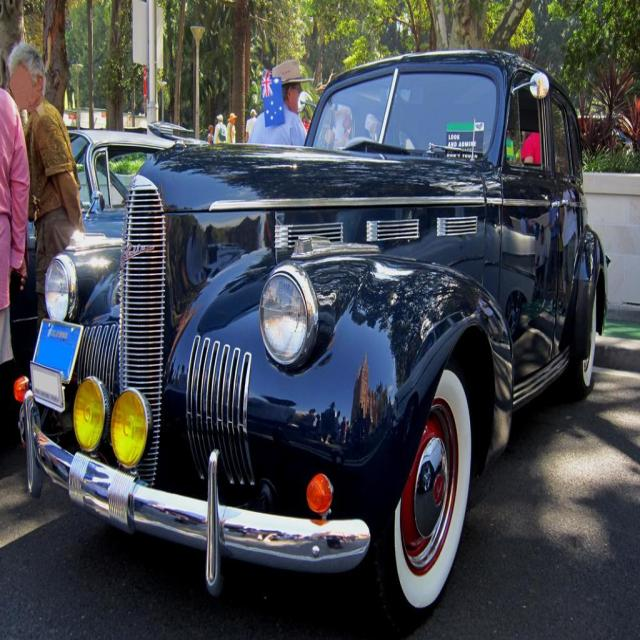car: (10, 43, 616, 616)
